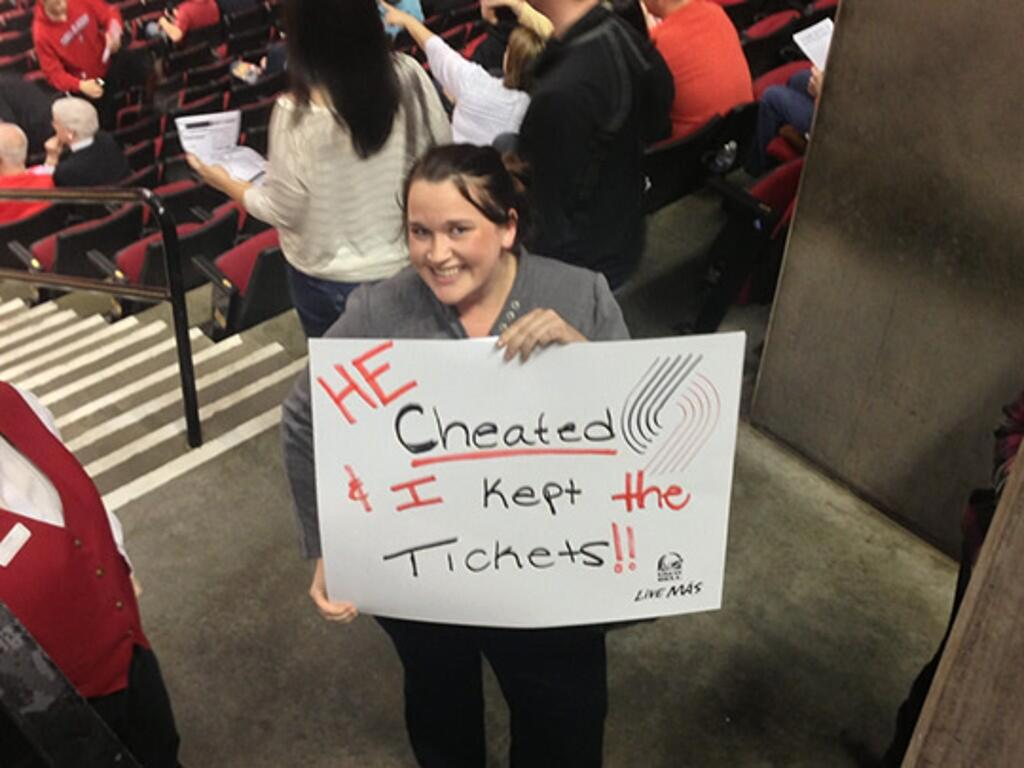face: (402, 184, 500, 304)
